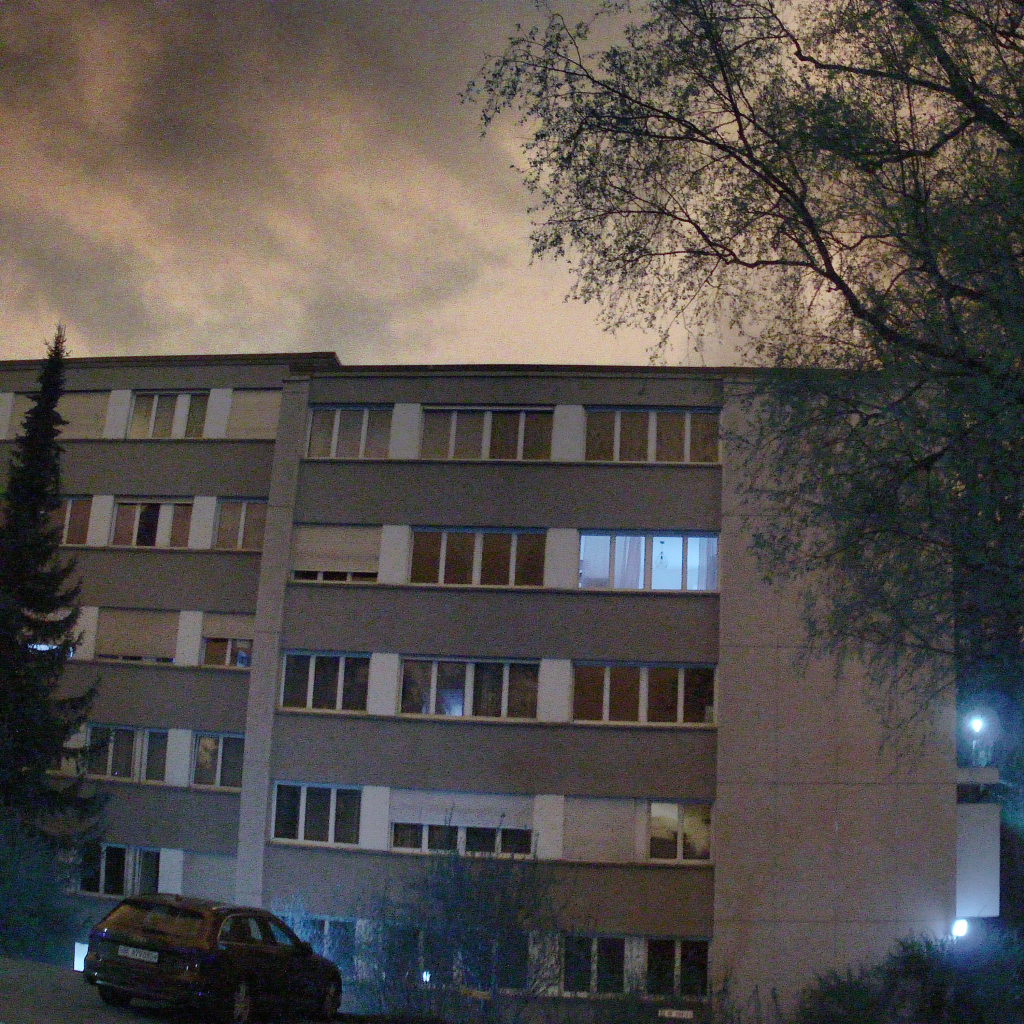glass panel: (495, 931, 529, 989), (324, 920, 354, 979), (651, 535, 683, 589), (573, 665, 604, 720), (613, 534, 644, 589), (647, 667, 678, 722), (410, 530, 442, 583), (579, 534, 610, 588), (686, 536, 717, 590), (649, 802, 678, 859), (507, 663, 537, 718), (683, 667, 713, 722), (609, 666, 639, 720), (443, 532, 474, 584), (480, 533, 511, 585), (562, 936, 591, 991), (302, 786, 331, 841), (515, 533, 545, 586), (401, 660, 431, 713), (679, 940, 707, 996), (473, 662, 502, 716), (311, 655, 340, 708), (436, 662, 465, 715), (682, 805, 710, 859), (647, 939, 674, 994), (341, 657, 369, 710), (656, 410, 685, 461), (596, 938, 623, 992), (335, 409, 364, 459), (619, 410, 648, 460), (489, 411, 519, 459), (421, 410, 451, 458), (454, 410, 483, 459), (334, 790, 360, 844), (274, 784, 300, 838), (586, 410, 614, 460), (690, 413, 718, 462), (523, 412, 552, 459), (282, 655, 308, 707), (215, 501, 243, 549), (363, 409, 390, 458), (307, 409, 334, 457), (193, 735, 218, 785), (65, 498, 91, 544), (241, 502, 266, 549), (144, 730, 167, 781), (220, 737, 243, 787), (86, 727, 110, 774), (110, 729, 133, 778), (79, 841, 101, 892), (112, 503, 138, 546), (103, 847, 126, 894), (151, 394, 176, 437), (129, 395, 154, 437), (138, 850, 160, 895), (185, 392, 207, 437), (136, 503, 159, 546), (170, 503, 191, 547), (465, 826, 496, 853), (392, 823, 422, 849), (428, 825, 457, 851), (229, 639, 253, 668)
